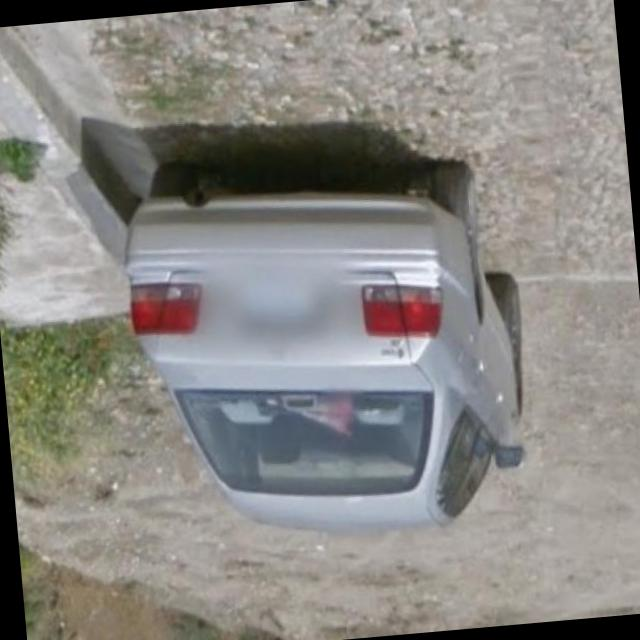car: (111, 140, 532, 550)
